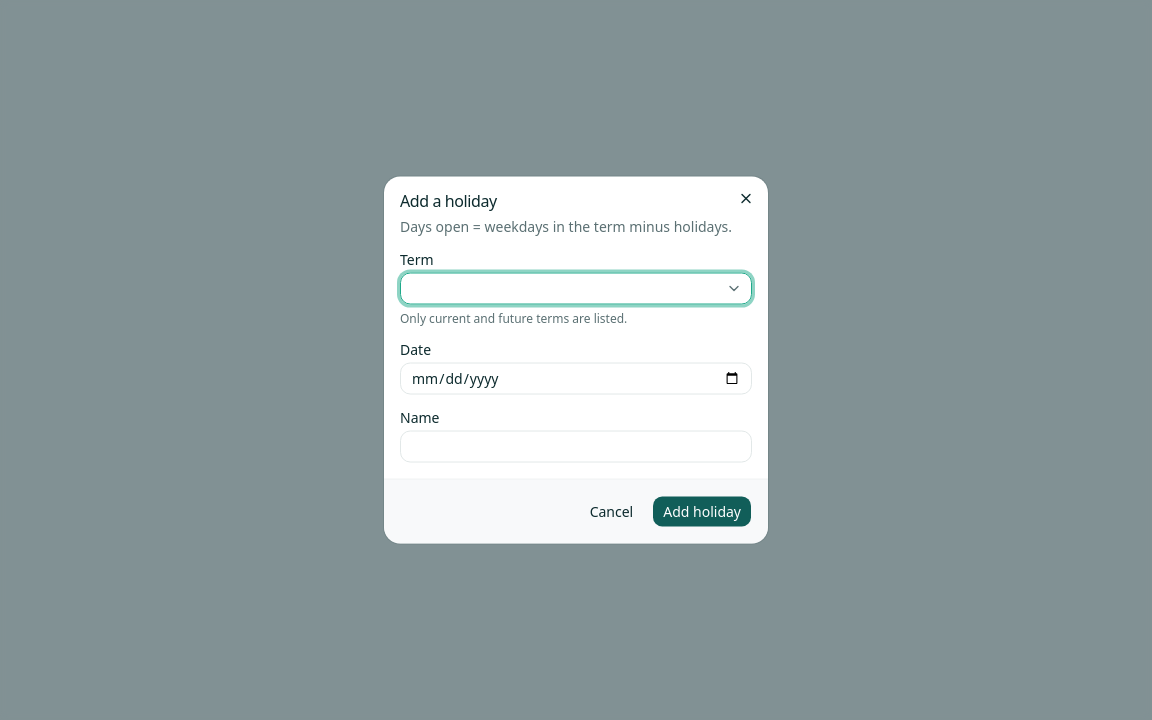
Test: AddHolidayDialog › shows the no-term message when every term has ended
In the field labelled "Name": (576, 446) [400,430,752,462], type "x"
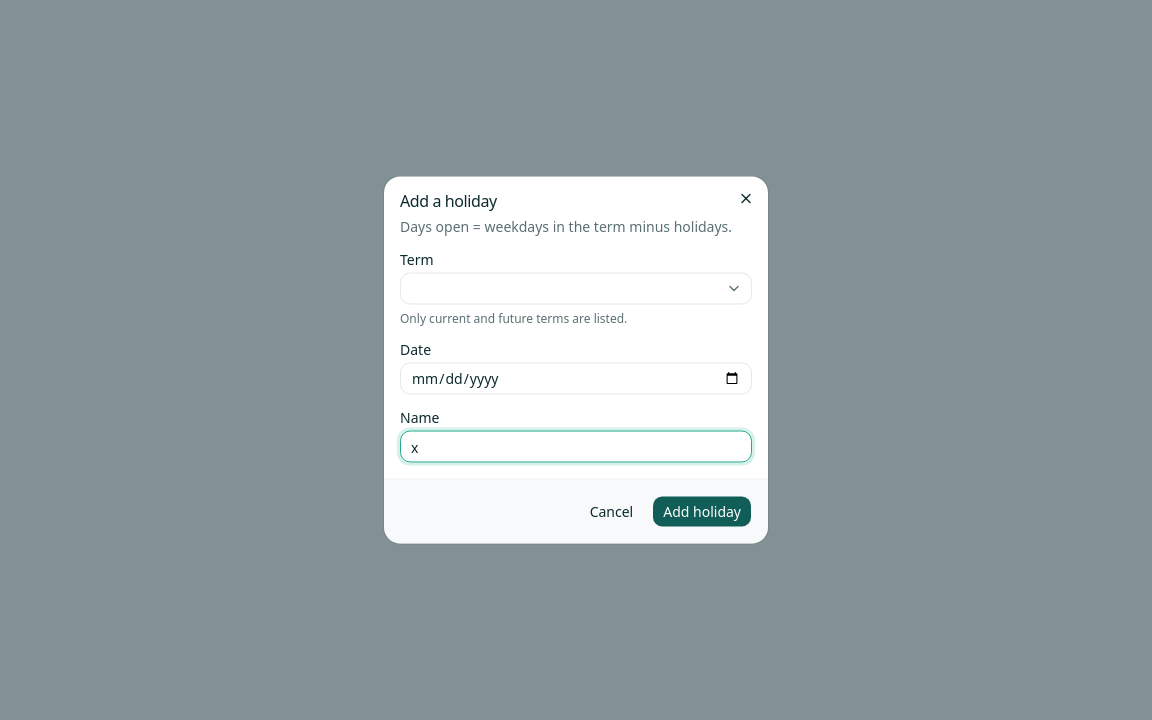
Click the button "Add holiday": (702, 512) [652,496,752,528]
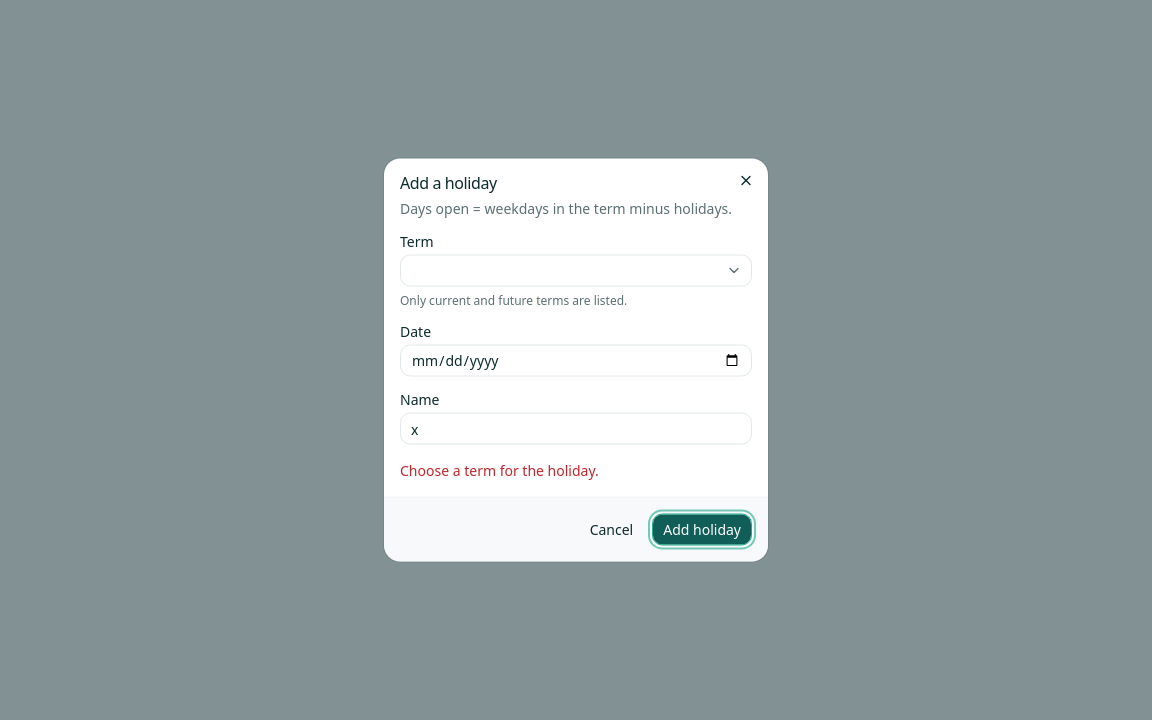
Expected: the message reads "Choose a term for the holiday.", [400,460,599,480]
